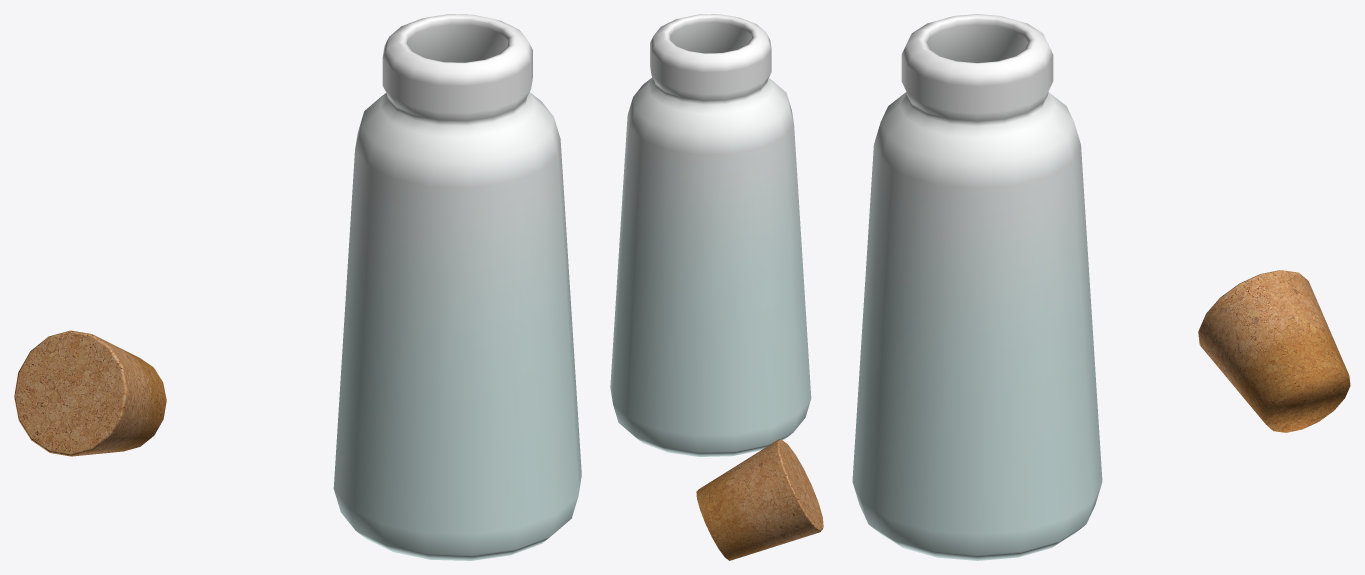
The model's file is pigment 1.fbx.
3 views of the same model, side by side, from view 1: azimuth 30°, elevation 25°; view 2: azimuth 150°, elevation 25°; view 3: azimuth 270°, elevation 25° (orthographic). The views are drawn at different scales.
Visible parts, largest first — view 1: pigment_bottle, pigment_lid; view 2: pigment_bottle, pigment_lid; view 3: pigment_bottle, pigment_lid.
Part boxes in pixels (x1,y1,x2,y2): pigment_bottle: [333, 14, 581, 560]; pigment_lid: [14, 330, 166, 456]; pigment_bottle: [610, 14, 811, 456]; pigment_lid: [696, 439, 823, 560]; pigment_bottle: [852, 14, 1102, 560]; pigment_lid: [1198, 270, 1350, 432].
Bounding box in the file's own units: 5.8 × 6.85 × 6.39.
